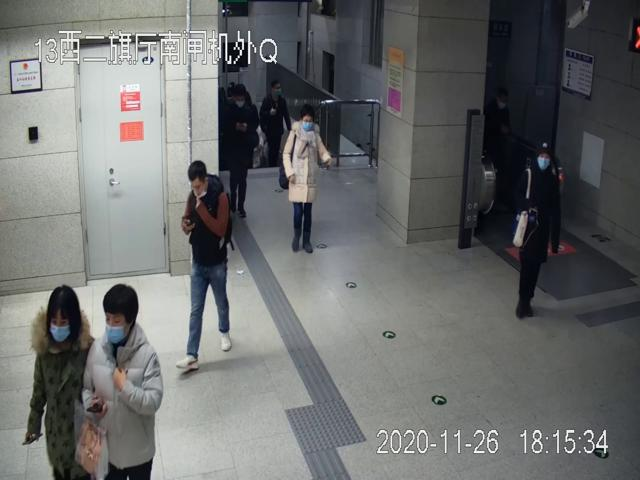person: (86, 283, 162, 480), (26, 286, 92, 480), (176, 161, 233, 374), (515, 139, 564, 316), (282, 104, 331, 253)
